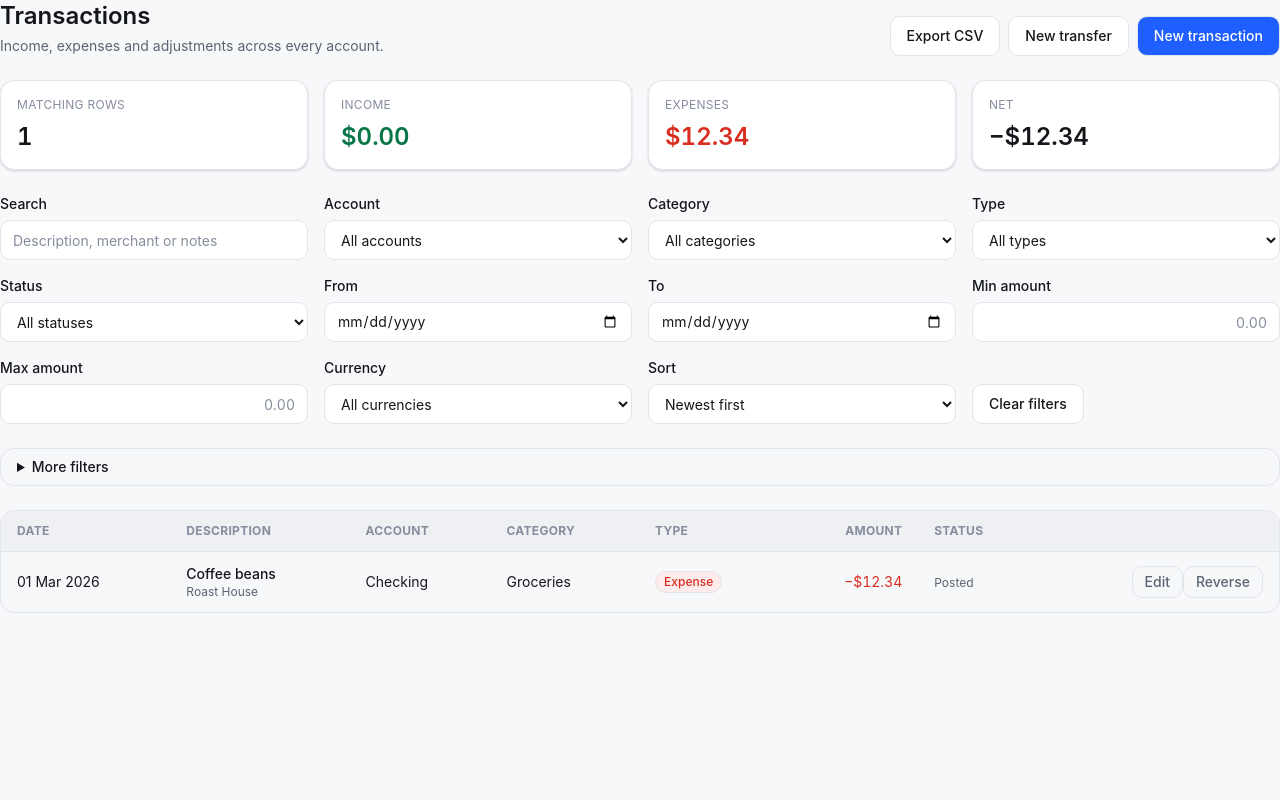
Test case: TransactionsPage › opens the create modal with the transaction form
Click the button "New transaction" at (1208, 36), box [1137,16,1279,56]
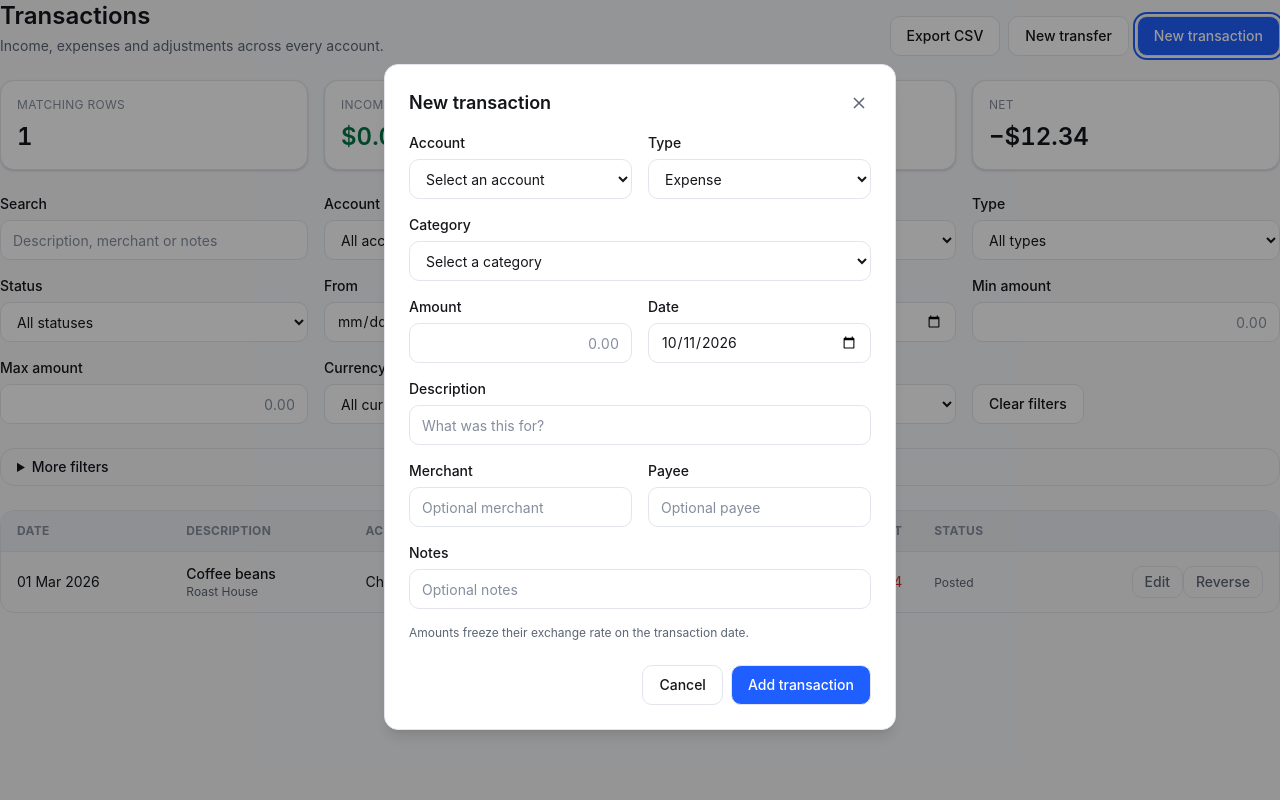
Now the dropdown labelled "Account" is shown, box [409,159,632,199]
Now the field labelled "Amount" is shown, box [409,323,632,363]
Now the date field labelled "Date" is shown, box [648,323,871,363]
